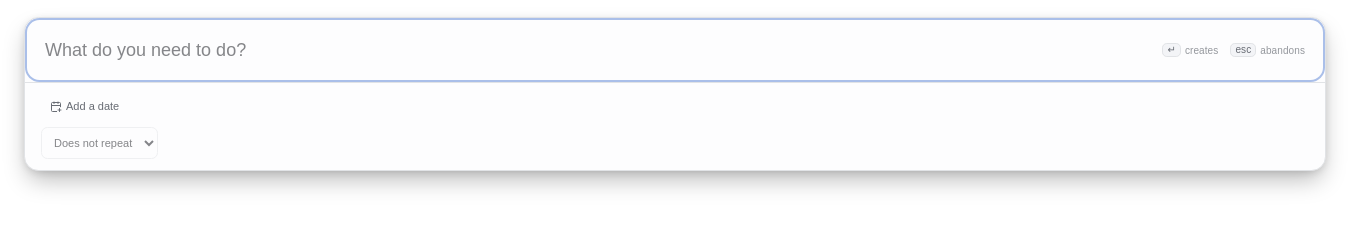
Test: a Task the record refused › keeps the description on screen and says what did not happen
The width and height of the screenshot is (1351, 240).
In the field labelled "What do you need to do?": (675, 50) [25,18,1325,82], type "renew the TLS certificate"
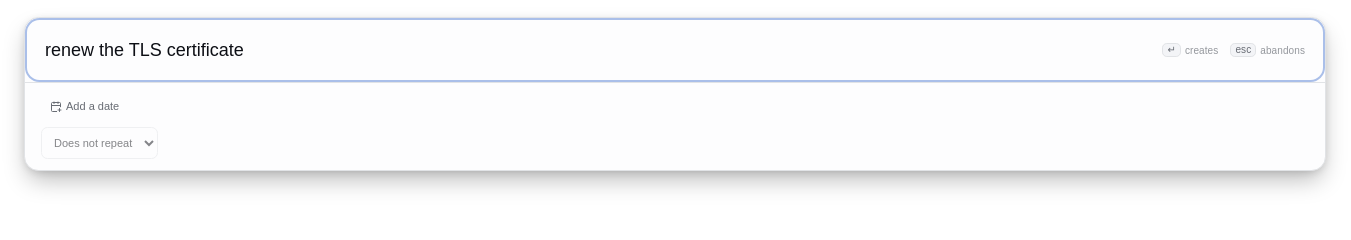
Press Enter in the field named "What do you need to do?", box [25,18,1325,82]
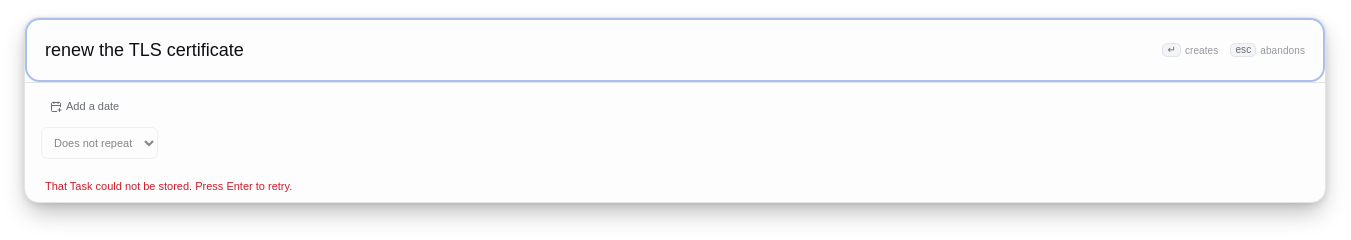
Check: the message shows "could not be stored", box [45,180,292,192]
